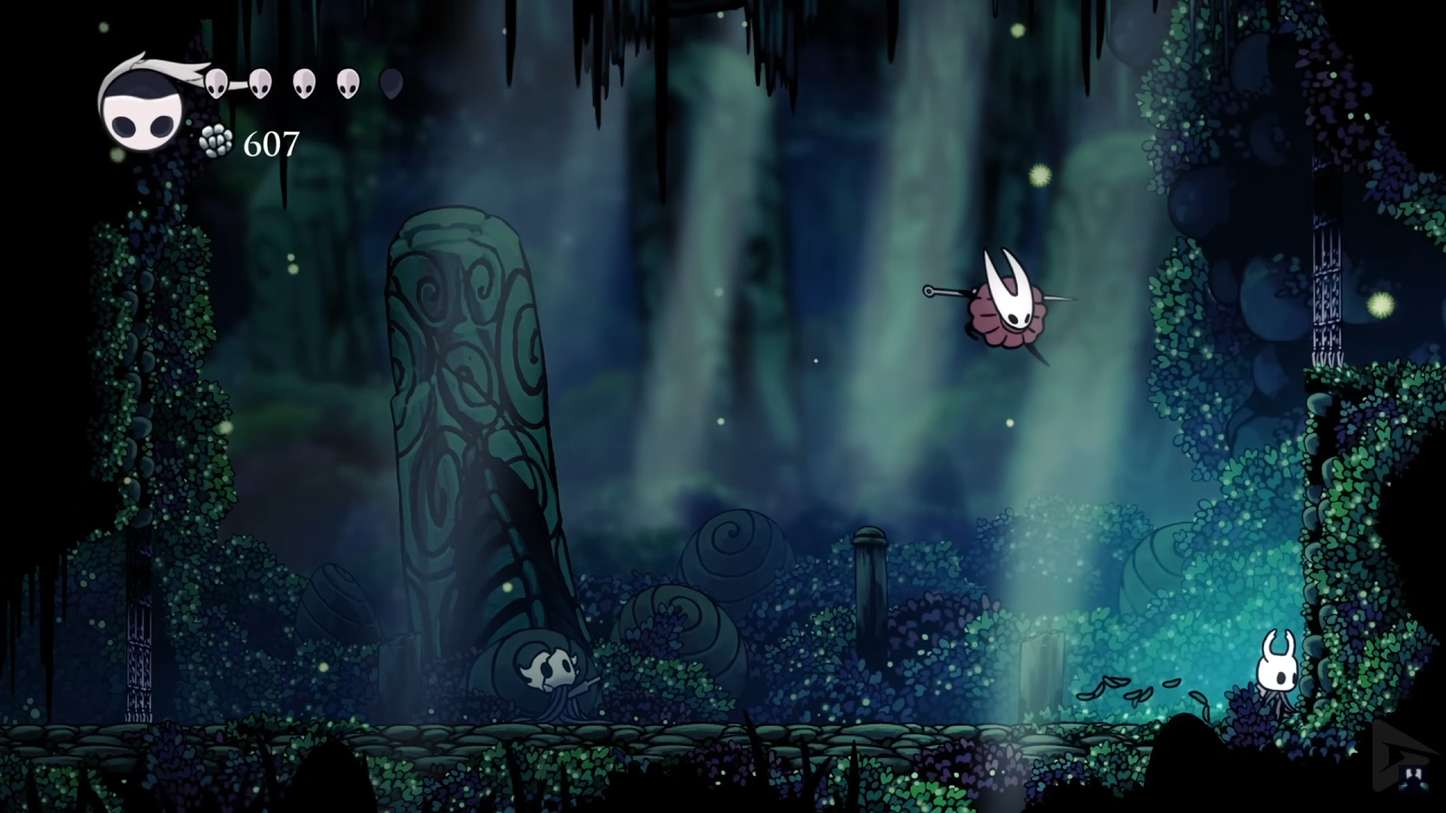HK: (1245, 626, 1305, 719)
